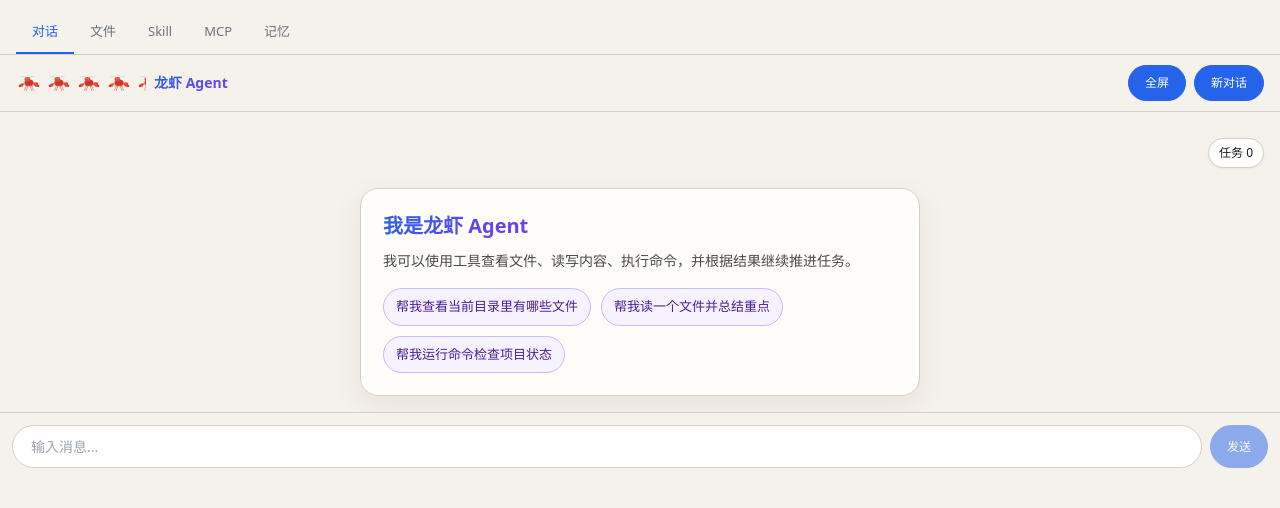
TabsWorkspace Skill tab › groups mixed platform and workspace skills under separate sections
The image size is (1280, 508).
Click the button "Skill": point(160, 33) [132,12,188,54]
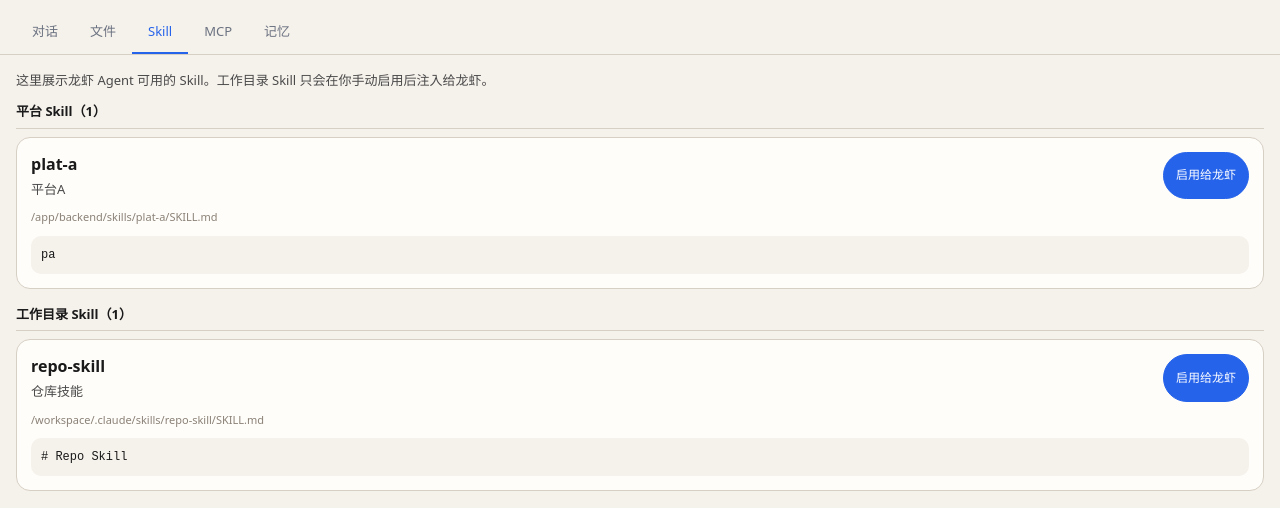
Expected: the text "平台 Skill（1）" is shown, [16,102,1264,128]
Expected: the text "工作目录 Skill（1）" is shown, [16,304,1264,331]
